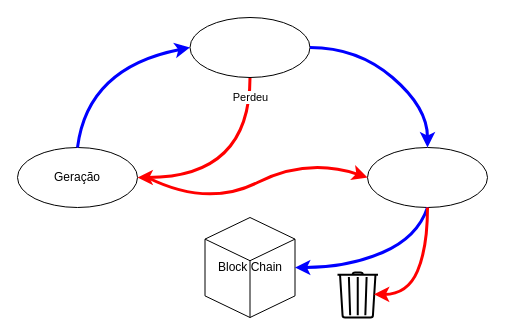
This 505x336 diagram has some shape labels left out. Here are the shapes that lost their labels. From the top down, the centre of each, then its label:
pixel 249 47: Registro do Eleitor
pixel 427 177: Servidor Block Chain
